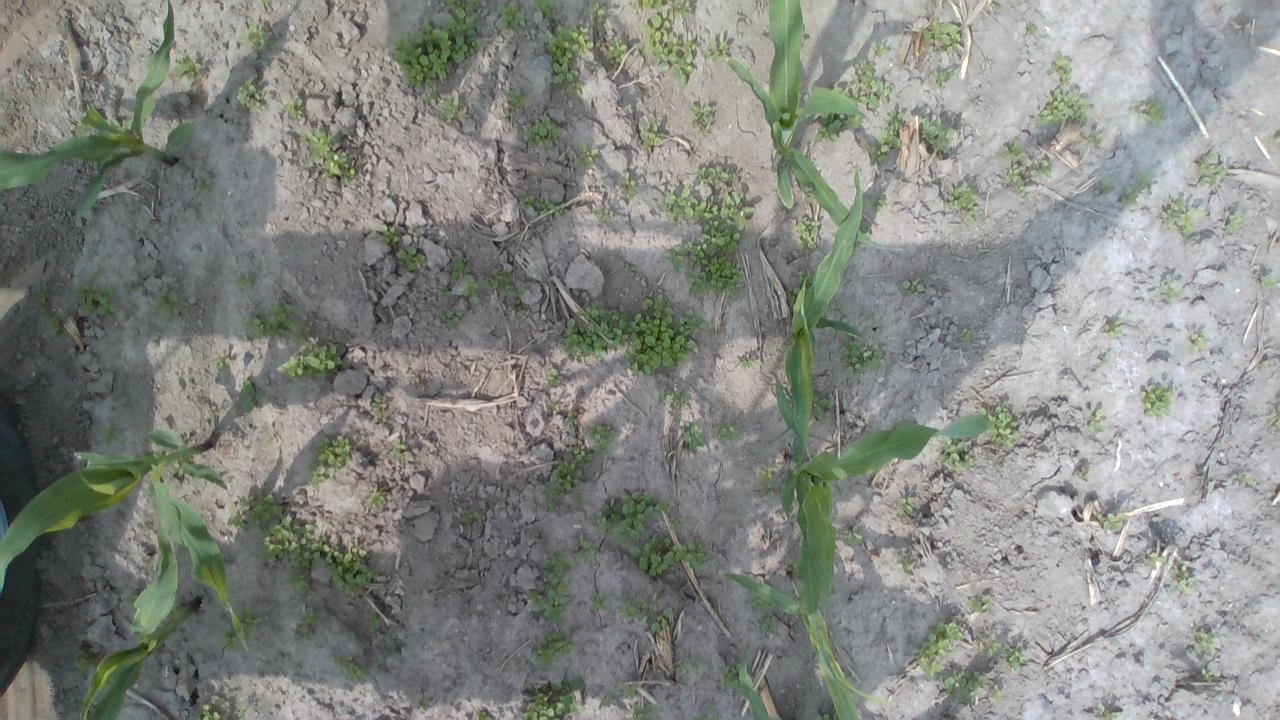Maize: (762, 369, 1002, 706), (0, 429, 255, 654), (720, 0, 909, 255), (0, 0, 195, 215), (786, 160, 866, 508), (80, 512, 200, 715), (722, 567, 862, 720), (730, 641, 781, 720)
Weeds: (660, 166, 754, 304), (392, 0, 483, 86), (625, 293, 710, 374), (558, 299, 629, 365), (639, 9, 698, 86), (592, 488, 670, 546), (544, 16, 595, 96), (261, 515, 330, 569), (914, 612, 968, 681), (542, 439, 592, 513), (295, 125, 355, 186), (526, 548, 574, 622), (242, 298, 312, 348), (323, 538, 378, 596), (522, 676, 584, 720), (843, 58, 894, 109), (282, 342, 342, 384), (71, 268, 120, 318), (226, 488, 284, 530), (618, 591, 674, 634), (1032, 86, 1094, 124), (308, 435, 352, 488), (629, 535, 680, 578), (866, 109, 904, 164), (980, 399, 1020, 448), (1000, 139, 1032, 199), (839, 334, 883, 377), (1161, 198, 1208, 238), (220, 608, 262, 652), (32, 287, 66, 340), (532, 628, 576, 668), (918, 108, 956, 153), (520, 113, 566, 150), (942, 670, 989, 706), (147, 285, 191, 323), (814, 111, 862, 144), (237, 16, 275, 55), (938, 436, 977, 473), (944, 183, 978, 225), (921, 18, 961, 52), (1194, 148, 1226, 190), (482, 268, 526, 297), (1138, 382, 1172, 418), (784, 268, 814, 308), (1128, 99, 1168, 128), (679, 535, 712, 570), (1122, 172, 1158, 204), (587, 422, 619, 457), (494, 0, 526, 34), (238, 378, 266, 415), (328, 654, 365, 682), (234, 77, 265, 110), (572, 534, 601, 567), (710, 418, 744, 446), (292, 606, 317, 644), (792, 216, 819, 251), (1169, 562, 1195, 597), (282, 569, 312, 599), (439, 93, 468, 124), (810, 386, 834, 423), (637, 118, 664, 150), (1188, 630, 1220, 657), (973, 630, 1002, 659), (1095, 509, 1128, 534), (572, 143, 602, 170), (1046, 52, 1073, 82), (171, 54, 201, 80), (1159, 273, 1185, 302), (1002, 641, 1028, 670), (688, 103, 714, 131), (1082, 408, 1108, 436), (682, 421, 706, 451), (658, 387, 692, 408), (396, 245, 424, 270), (186, 702, 224, 720), (720, 657, 740, 691), (436, 305, 464, 329), (369, 391, 389, 424), (704, 34, 728, 61), (448, 255, 472, 282), (540, 197, 568, 220), (748, 590, 775, 613), (504, 89, 526, 117), (604, 36, 626, 64), (672, 656, 704, 675), (584, 1, 606, 28), (461, 276, 482, 304), (965, 594, 994, 614), (626, 703, 660, 720), (282, 93, 304, 119), (1142, 548, 1168, 570), (618, 168, 638, 196), (758, 465, 776, 496), (98, 421, 120, 446), (388, 437, 410, 462), (665, 0, 693, 19), (516, 187, 538, 211), (74, 650, 95, 674), (379, 223, 400, 246), (902, 276, 926, 296), (932, 68, 954, 89), (1094, 704, 1122, 720), (366, 485, 387, 506), (757, 613, 778, 634), (210, 350, 232, 370), (844, 524, 864, 546), (1265, 399, 1280, 428), (105, 118, 133, 133), (896, 496, 916, 517), (1224, 209, 1242, 232), (532, 0, 556, 17), (364, 612, 384, 632), (1188, 332, 1208, 352), (630, 0, 663, 12), (1032, 160, 1054, 178), (896, 551, 914, 573), (1103, 318, 1122, 338), (599, 694, 620, 712), (734, 354, 760, 368), (590, 592, 608, 612), (232, 272, 253, 289), (1099, 174, 1115, 196), (814, 706, 839, 720), (828, 301, 846, 320), (782, 557, 799, 577), (1086, 127, 1102, 148), (194, 176, 212, 194), (1196, 666, 1214, 684), (166, 460, 184, 478), (869, 195, 886, 214), (462, 510, 484, 524), (423, 86, 440, 104), (1260, 274, 1280, 289), (1235, 471, 1255, 486), (1074, 466, 1091, 483), (594, 208, 612, 224), (414, 692, 430, 710), (622, 682, 640, 698), (1094, 354, 1114, 368), (670, 516, 686, 533), (545, 369, 560, 386), (262, 428, 276, 446), (870, 43, 889, 56), (472, 709, 494, 720), (622, 262, 640, 275), (803, 186, 815, 205), (509, 298, 524, 311), (437, 284, 452, 297), (126, 592, 139, 606), (958, 329, 972, 342), (1258, 359, 1272, 372), (824, 84, 842, 94), (566, 412, 580, 424), (694, 713, 718, 720), (206, 405, 218, 418), (408, 224, 425, 233), (238, 705, 248, 720), (114, 146, 130, 154), (989, 1, 1000, 12), (127, 280, 139, 290), (1026, 24, 1036, 34), (547, 404, 559, 412), (385, 567, 397, 575), (1274, 130, 1280, 144), (262, 0, 272, 5)
